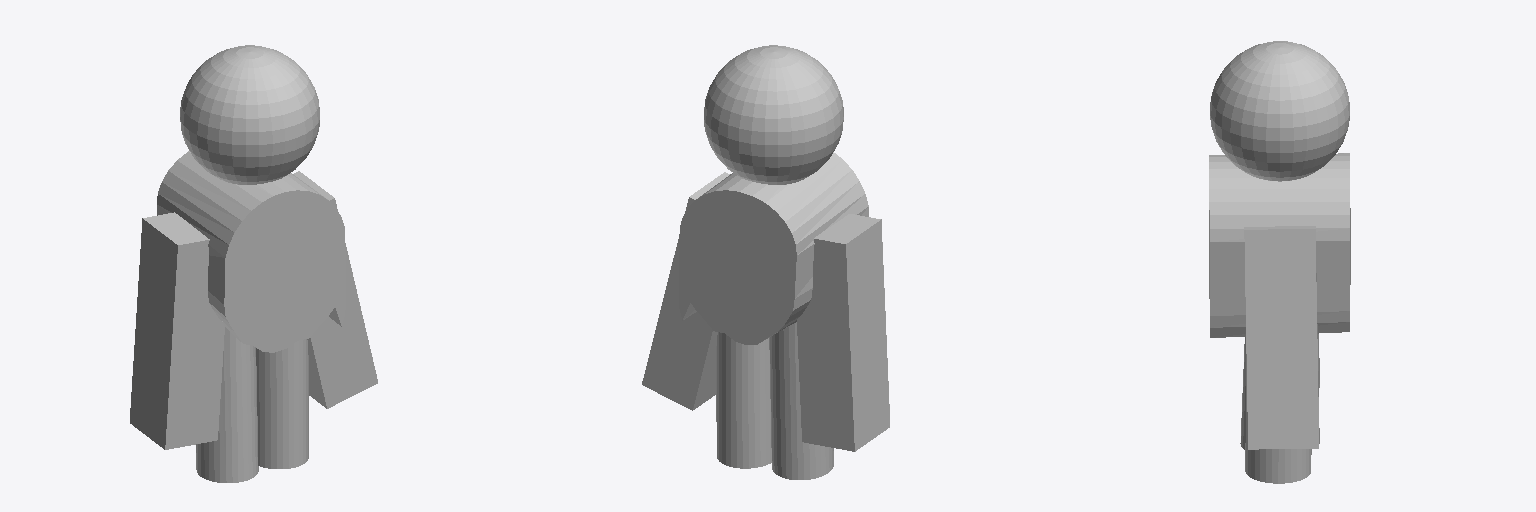
Rendered from Figurine86.obj.
3 renders of one model, left to right at view 1: azimuth 30°, elevation 25°; view 2: azimuth 150°, elevation 25°; view 3: azimuth 270°, elevation 25°, orthographic.
Parts seen in each view (by area): view 1: Cylinder; view 2: Cylinder; view 3: Cylinder.
Boxes of the visible parts, box(x1,y1,x2,y2) form: Cylinder: box(130, 45, 377, 482); Cylinder: box(642, 45, 889, 479); Cylinder: box(1209, 41, 1350, 483).
Size of the model in its own units: 3.49 by 6.44 by 2.